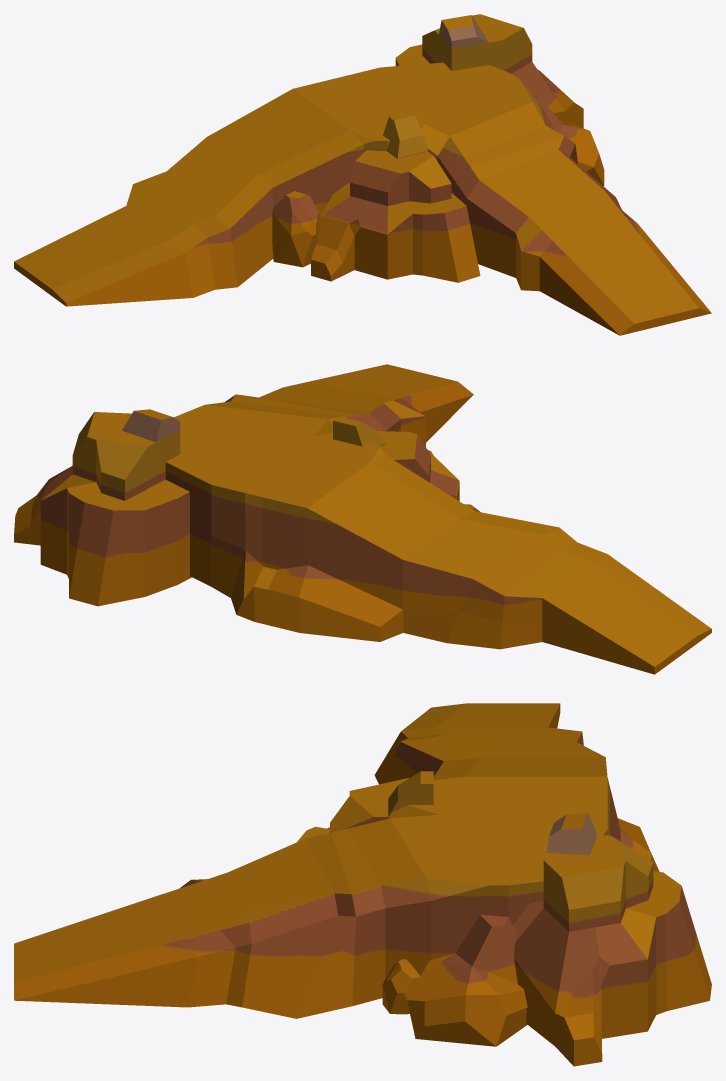
The model's file is rampa.fbx.
The picture shows the model from 3 angles, top to bottom: view 1: azimuth 30°, elevation 25°; view 2: azimuth 150°, elevation 25°; view 3: azimuth 270°, elevation 25°; orthographic projection. The views are drawn at different scales.
Visible parts, largest first — view 1: rampa; view 2: rampa; view 3: rampa.
Part boxes in pixels (box(x1,y1,x2,y2)): rampa: box(14, 14, 711, 335); rampa: box(14, 364, 711, 674); rampa: box(14, 703, 711, 1066).
Size of the model in its own units: 3496 by 848 by 2967.
